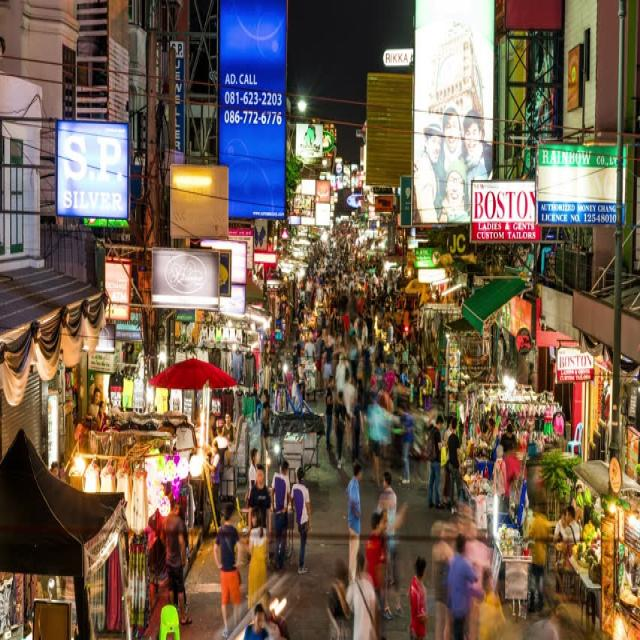body: (413, 93, 497, 227), (290, 218, 387, 270), (158, 498, 192, 626), (172, 306, 255, 358), (211, 501, 242, 639), (376, 499, 411, 621), (258, 218, 292, 342), (519, 497, 551, 616), (343, 549, 384, 639), (445, 530, 479, 638), (292, 268, 374, 311), (429, 518, 457, 638), (244, 504, 268, 628), (394, 285, 438, 352), (552, 503, 581, 604), (342, 460, 364, 593), (470, 568, 510, 637), (508, 449, 530, 574), (375, 470, 398, 586), (289, 462, 312, 574), (322, 558, 353, 638), (270, 457, 290, 572), (424, 412, 446, 512), (554, 506, 578, 594), (200, 438, 222, 534), (405, 554, 429, 640), (172, 500, 189, 612), (247, 464, 273, 537), (379, 507, 395, 624), (366, 389, 384, 488), (292, 308, 365, 332), (478, 416, 499, 493), (447, 416, 463, 516), (397, 402, 416, 486), (332, 388, 351, 471), (438, 413, 454, 508), (463, 514, 492, 566), (348, 389, 366, 468), (354, 357, 399, 388), (240, 600, 272, 639), (210, 417, 231, 472), (258, 385, 272, 467), (323, 372, 337, 452), (372, 269, 394, 315), (334, 352, 349, 416), (314, 328, 328, 396), (491, 443, 507, 500), (274, 358, 288, 418), (346, 329, 359, 388), (320, 328, 332, 391), (219, 411, 237, 448), (247, 447, 259, 501), (267, 612, 290, 640), (418, 367, 432, 412), (86, 385, 102, 423), (500, 422, 519, 454), (372, 312, 384, 357), (302, 331, 317, 364), (425, 362, 437, 402), (359, 316, 369, 363), (96, 399, 110, 432), (328, 325, 345, 351), (416, 362, 424, 410), (291, 344, 300, 384), (365, 308, 374, 347), (294, 334, 302, 374), (383, 317, 391, 356), (408, 351, 419, 378), (387, 315, 394, 357), (262, 340, 270, 375), (208, 411, 216, 445), (261, 588, 272, 611), (399, 362, 409, 387), (48, 458, 60, 478), (400, 343, 409, 365), (575, 483, 584, 497)
